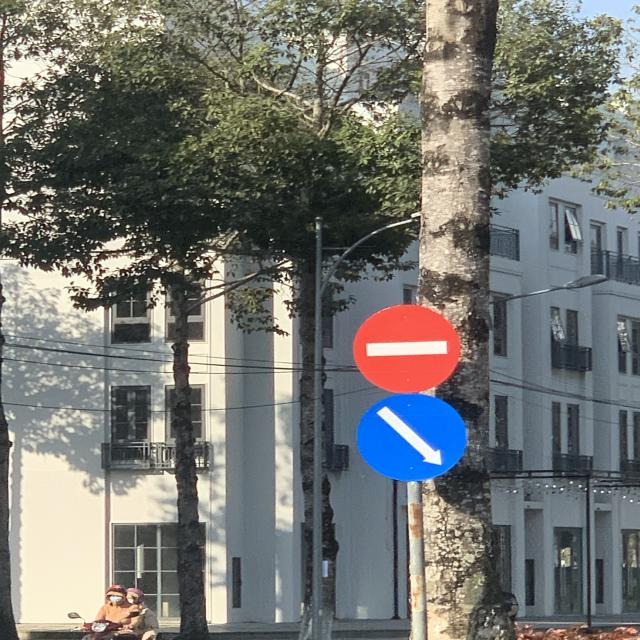Cam_Di_Nguoc_Chieu: (353, 305, 461, 394)
Chi_Huong_Di_Phai: (356, 392, 468, 481)
